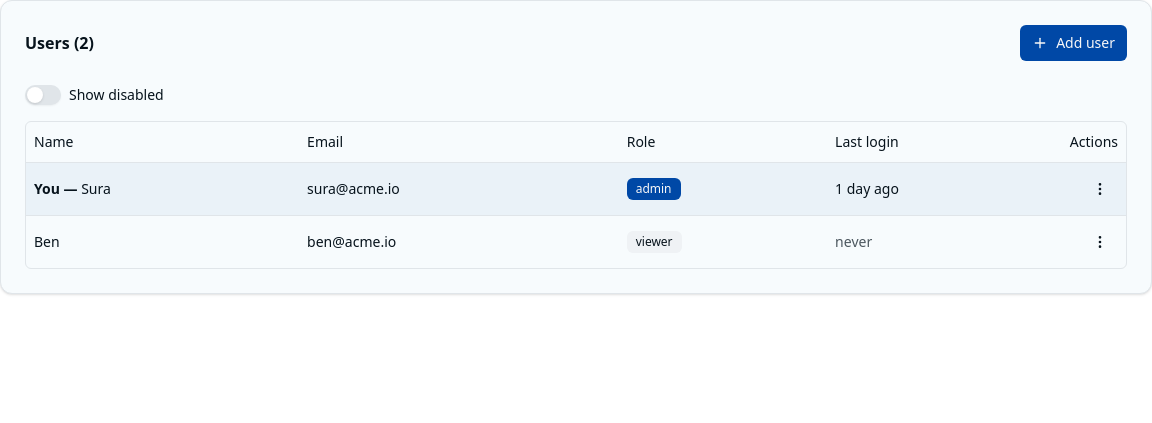
Test: UsersPage — last-admin + self grey-out (D-26) › hides Disable action on the last-admin row
Expected: the text "Users (2)" is shown, [25,35,94,51]
Click the button named "Actions for Ben" at (1100, 242), box [1082,224,1118,260]
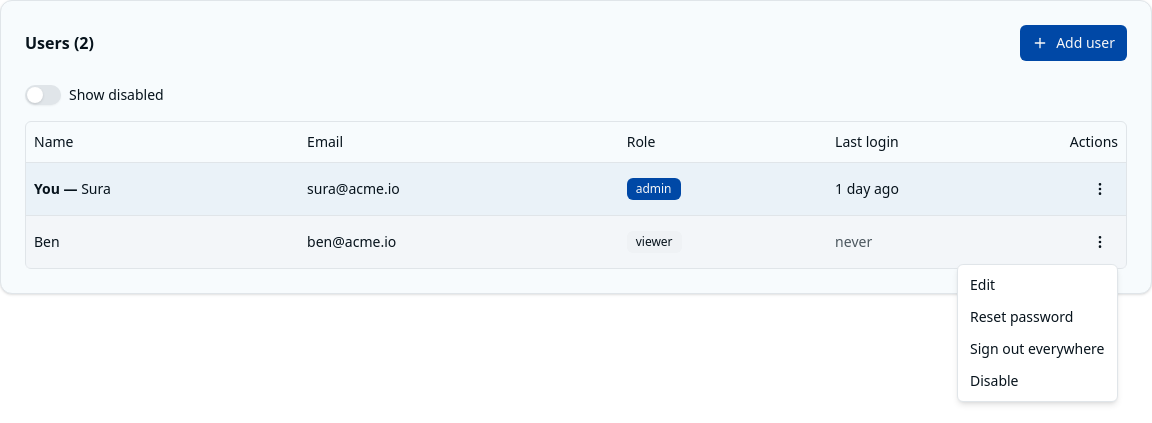
Expected: the menu item "Disable" is shown, [970,371,1018,390]
